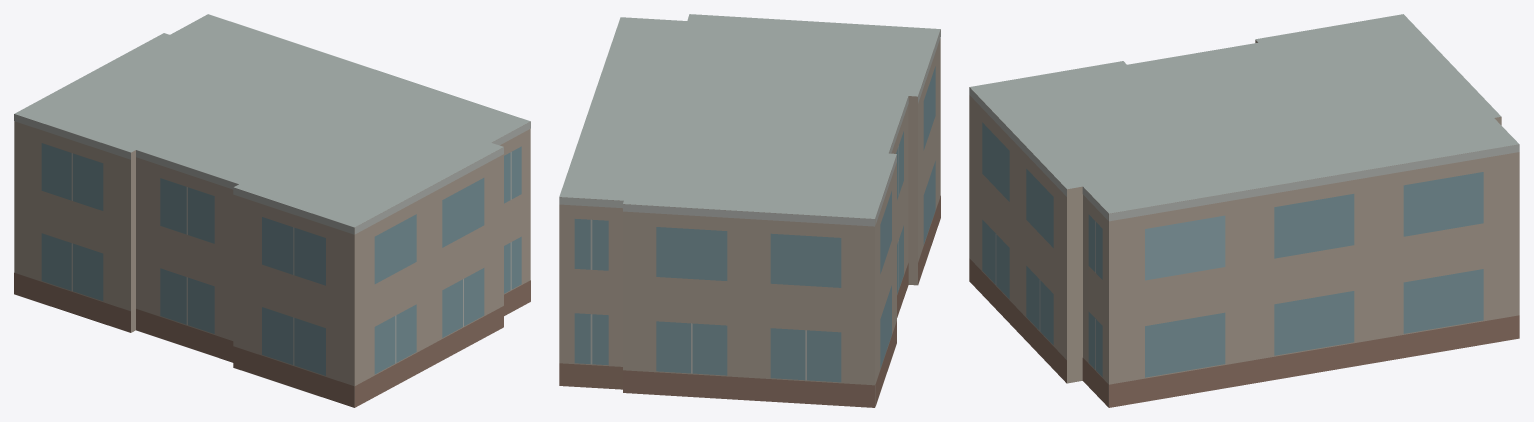
File: survey-upis-32834520.glb
3 views of the same model, side by side, from view 1: azimuth 30°, elevation 25°; view 2: azimuth 150°, elevation 25°; view 3: azimuth 270°, elevation 25° (orthographic). The views are drawn at different scales.
Visible parts, largest first — view 1: survey-upis-32834520.tmp; view 2: survey-upis-32834520.tmp; view 3: survey-upis-32834520.tmp.
Part boxes in pixels (box(x1,y1,x2,y2)): survey-upis-32834520.tmp: box(14, 14, 530, 407); survey-upis-32834520.tmp: box(559, 14, 940, 407); survey-upis-32834520.tmp: box(969, 14, 1519, 407).
Bounding box in the file's own units: 13.45 × 6.1 × 15.67.
